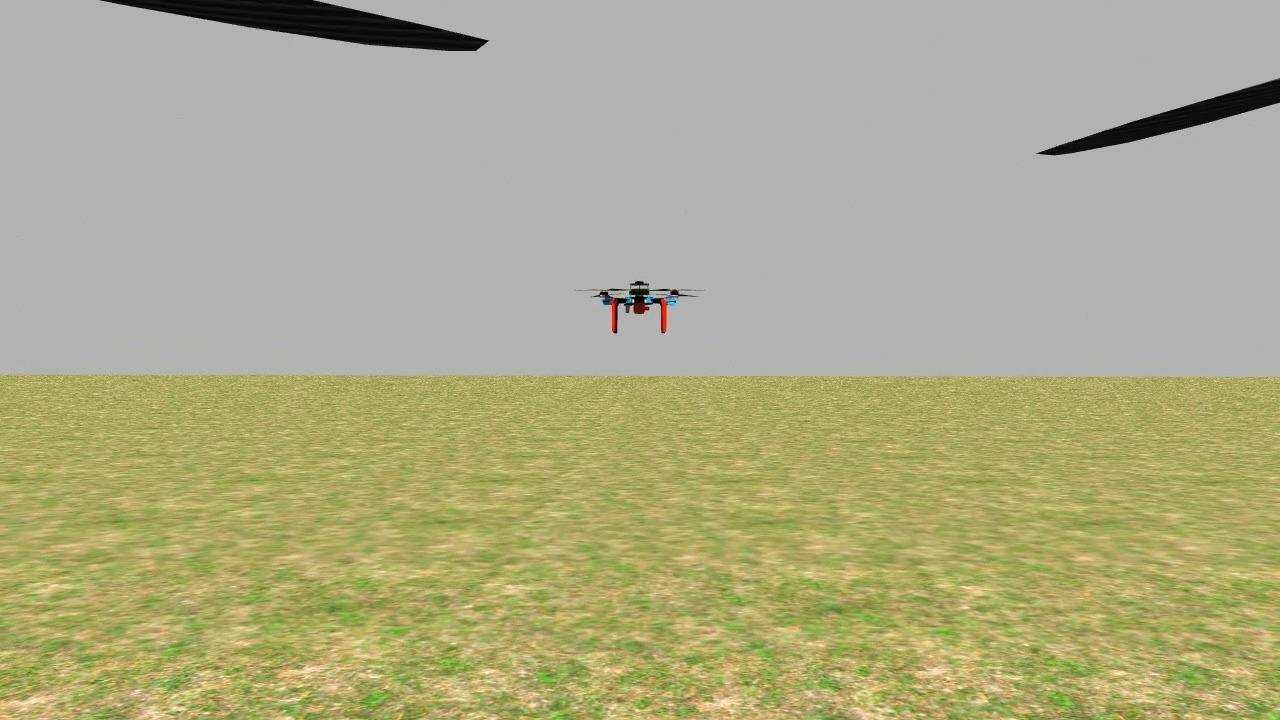UAV: (574, 270, 706, 344)
